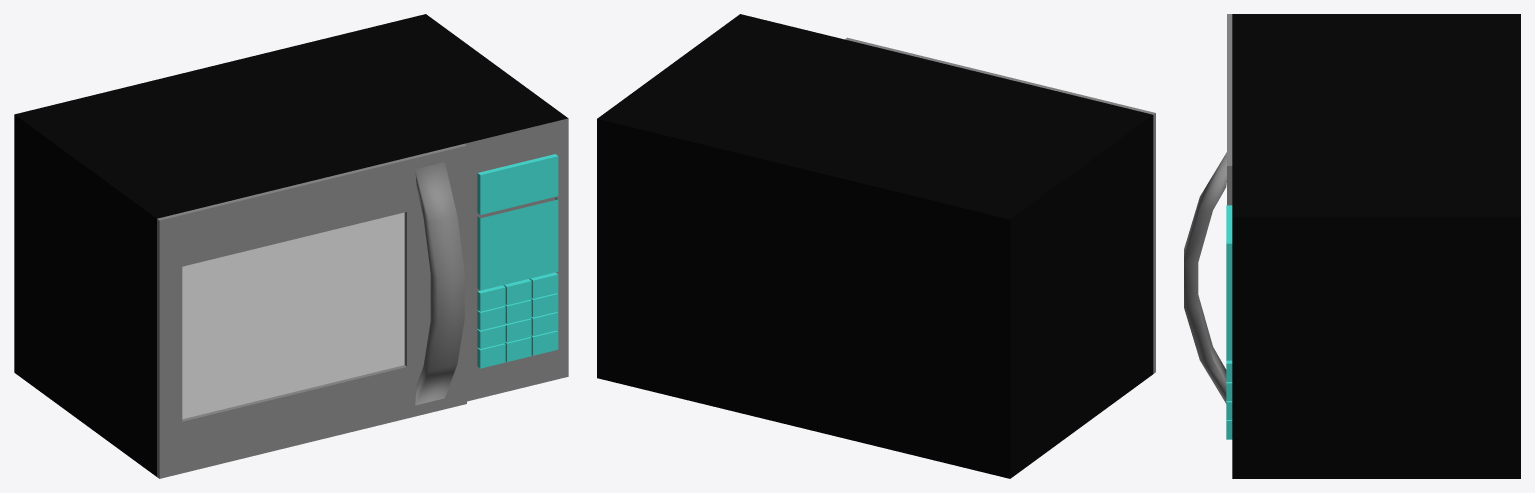
The model's file is Microwave.fbx.
3 views of the same model, side by side, from view 1: azimuth 30°, elevation 25°; view 2: azimuth 150°, elevation 25°; view 3: azimuth 270°, elevation 25° (orthographic).
Parts seen in each view (by area): view 1: Back, Front, Glass, Buttons; view 2: Back, Front; view 3: Back, Front, Buttons.
Part boxes in pixels (box(x1,y1,x2,y2)): Back: box(14, 14, 567, 476); Front: box(157, 118, 568, 478); Glass: box(182, 212, 404, 419); Buttons: box(477, 154, 558, 368); Back: box(597, 14, 1153, 478); Front: box(845, 37, 1155, 373); Back: box(1232, 14, 1520, 478); Front: box(1184, 14, 1232, 403); Buttons: box(1226, 205, 1232, 439).
Bounding box in the file's own units: 333 × 200 × 233.
